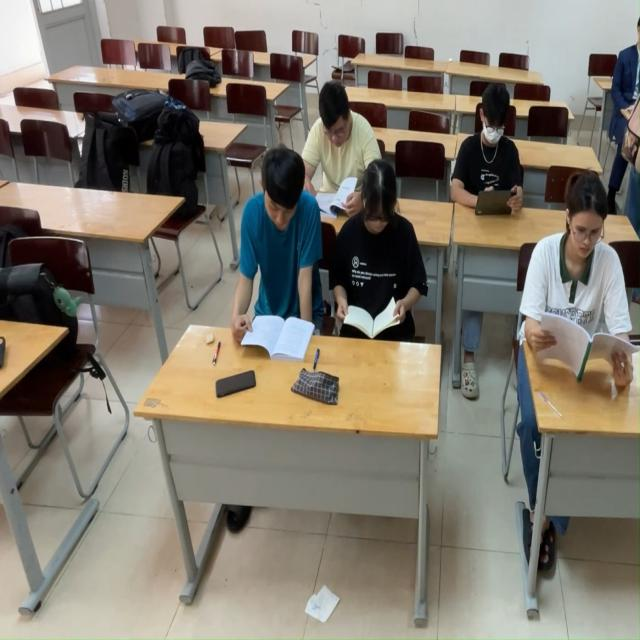read: (521, 177, 633, 409), (324, 179, 437, 353), (239, 158, 321, 365), (452, 99, 530, 240), (310, 77, 375, 207)
